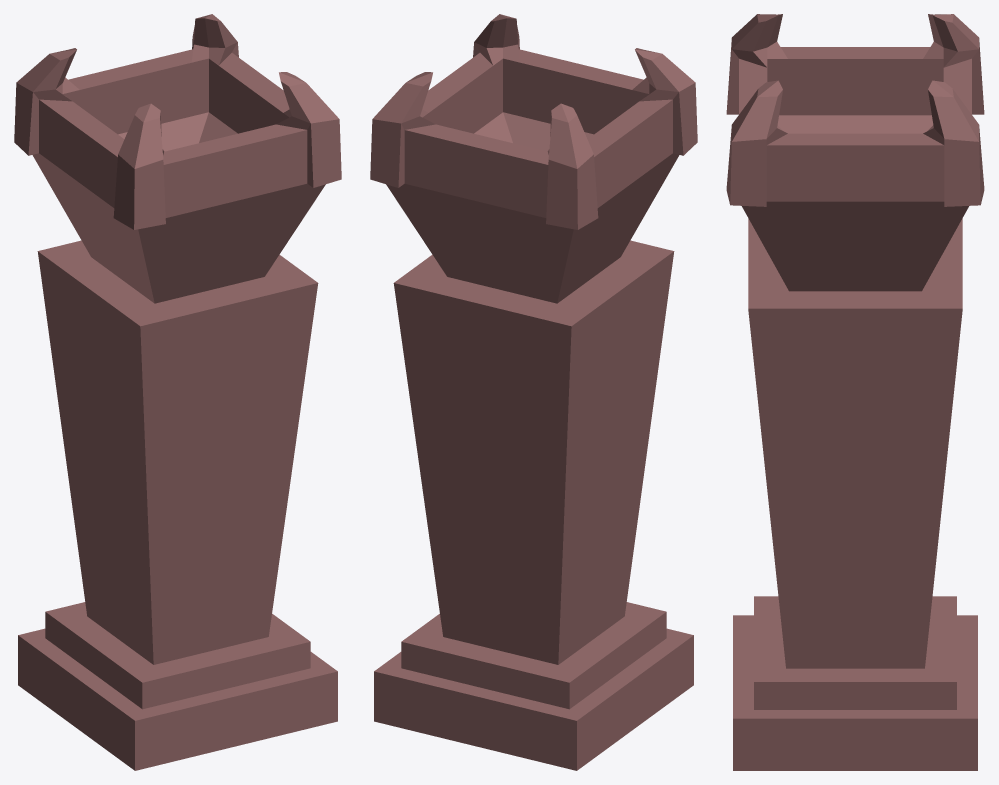
Rendered from tochi.FBX.
3 renders of one model, left to right at view 1: azimuth 30°, elevation 25°; view 2: azimuth 150°, elevation 25°; view 3: azimuth 270°, elevation 25°, orthographic. The views are drawn at different scales.
Visible parts, largest first — view 1: torchlight; view 2: torchlight; view 3: torchlight.
Boxes of the visible parts, bbox=[...] form: torchlight: bbox=[14, 14, 341, 770]; torchlight: bbox=[370, 14, 697, 770]; torchlight: bbox=[726, 14, 984, 770].
Bounding box in the file's own units: 1.74 × 4.99 × 1.74.
